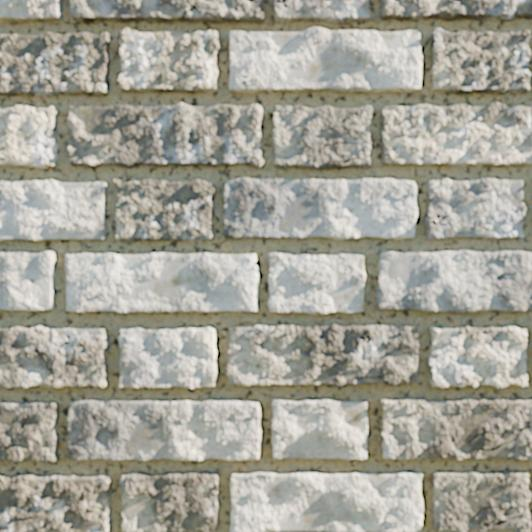brick: (67, 103, 263, 167), (229, 28, 421, 92), (226, 324, 417, 385), (67, 400, 261, 460), (223, 179, 416, 239), (230, 472, 422, 531), (66, 253, 258, 311), (377, 251, 531, 312), (380, 103, 531, 165), (381, 399, 531, 459), (0, 33, 110, 95), (0, 326, 109, 387), (0, 180, 106, 241), (118, 28, 219, 92), (0, 473, 111, 531), (431, 29, 530, 93), (273, 106, 371, 169), (114, 180, 214, 241), (424, 179, 524, 239), (428, 327, 526, 387), (432, 471, 530, 531), (119, 328, 216, 387), (121, 472, 218, 531), (272, 399, 366, 459), (269, 254, 364, 313), (71, 0, 264, 23), (0, 106, 58, 167), (0, 402, 58, 462), (0, 252, 55, 310), (381, 0, 531, 20), (273, 0, 369, 24), (0, 0, 62, 21)
crack: (32, 334, 70, 388), (472, 501, 529, 529), (425, 199, 460, 227), (317, 139, 370, 152), (325, 154, 369, 168), (337, 375, 384, 386), (181, 0, 201, 18), (207, 482, 218, 497), (275, 0, 287, 8), (222, 192, 231, 200), (200, 527, 216, 531), (118, 332, 122, 338)
